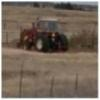tractors: (16, 18, 70, 54)
